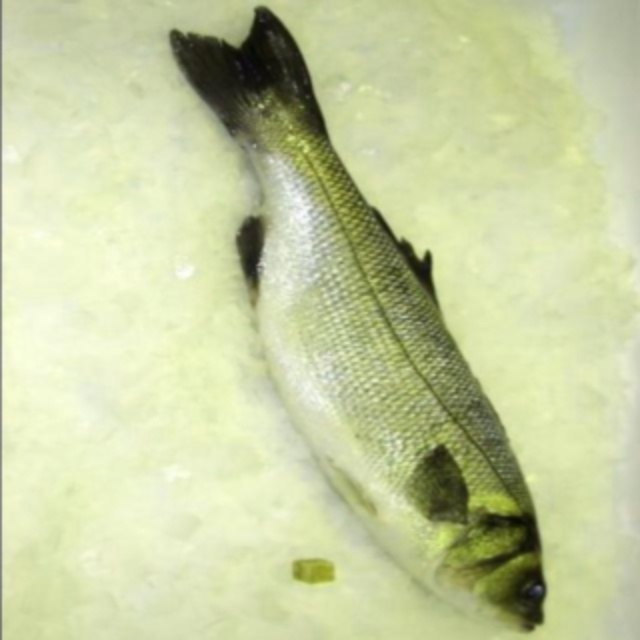Healthy Fish: (144, 5, 558, 638)
